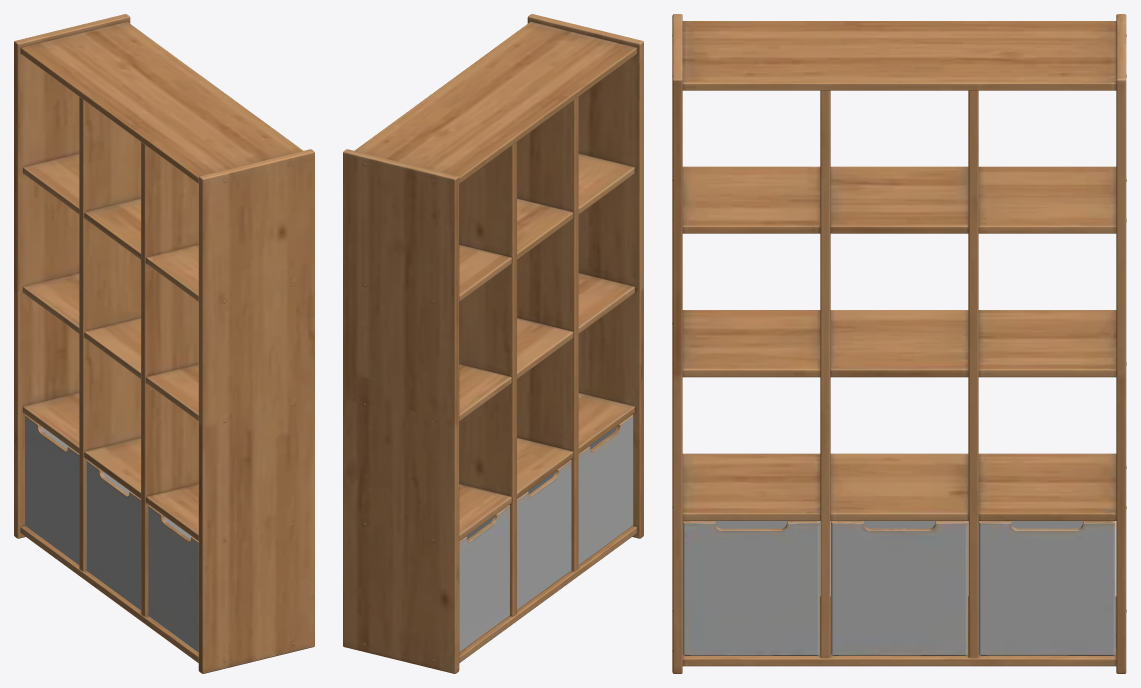
Rendered from wooden_display_shelves_01.glb.
The picture shows the model from 3 angles, left to right: view 1: azimuth 30°, elevation 25°; view 2: azimuth 150°, elevation 25°; view 3: azimuth 270°, elevation 25°; orthographic projection. The views are drawn at different scales.
Visible parts, largest first — view 1: wooden_display_shelves_01, wooden_display_shelves_01_drawer_02, wooden_display_shelves_01_drawer_01, wooden_display_shelves_01_drawer_03; view 2: wooden_display_shelves_01, wooden_display_shelves_01_drawer_03, wooden_display_shelves_01_drawer_02, wooden_display_shelves_01_drawer_01; view 3: wooden_display_shelves_01, wooden_display_shelves_01_drawer_03, wooden_display_shelves_01_drawer_01, wooden_display_shelves_01_drawer_02.
Boxes of the visible parts, x1,y1,x2,y2 form: wooden_display_shelves_01: (14,14,314,673); wooden_display_shelves_01_drawer_02: (86,460,140,610); wooden_display_shelves_01_drawer_01: (25,415,79,565); wooden_display_shelves_01_drawer_03: (148,505,198,652); wooden_display_shelves_01: (343,14,643,673); wooden_display_shelves_01_drawer_03: (578,415,633,565); wooden_display_shelves_01_drawer_02: (517,460,571,610); wooden_display_shelves_01_drawer_01: (459,505,509,652); wooden_display_shelves_01: (672,14,1126,673); wooden_display_shelves_01_drawer_03: (682,521,819,655); wooden_display_shelves_01_drawer_01: (978,521,1115,655); wooden_display_shelves_01_drawer_02: (831,521,967,655).
Size of the model in its own units: 0.3715 by 1.56 by 1.08.
Materials: 1 (1 with a texture image).
